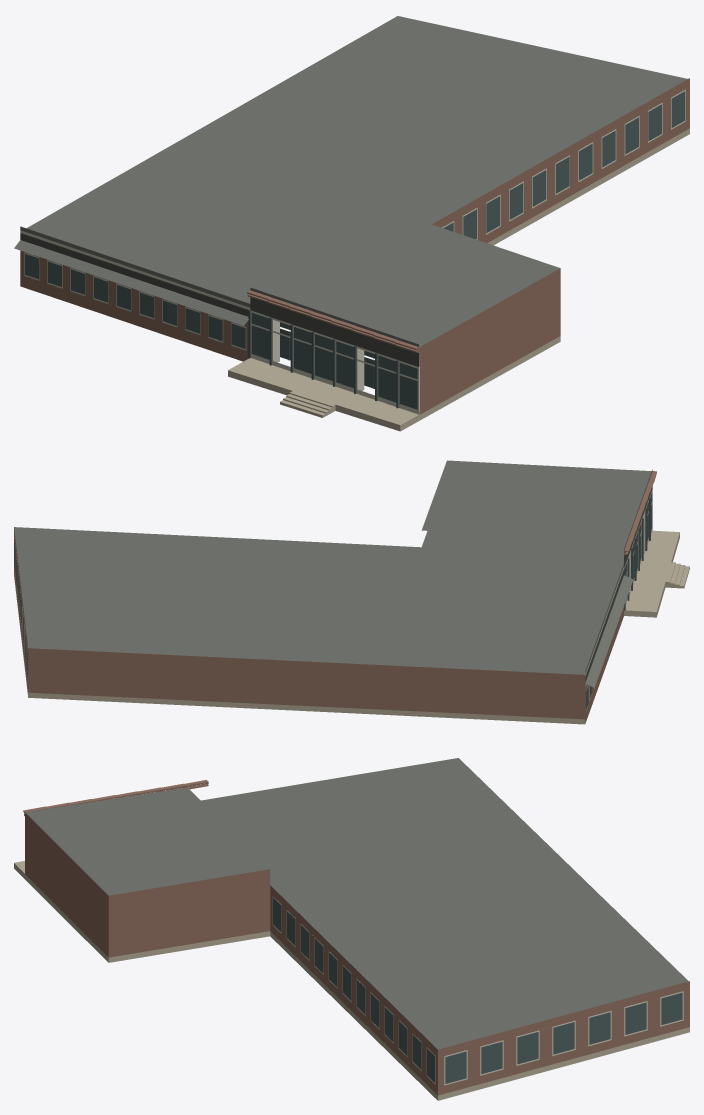
File: braselton-brothers-store-near.glb
The picture shows the model from 3 angles, top to bottom: view 1: azimuth 30°, elevation 25°; view 2: azimuth 150°, elevation 25°; view 3: azimuth 270°, elevation 25°; orthographic projection. The views are drawn at different scales.
Visible parts, largest first — view 1: braselton-brothers-store-0-roof, braselton-brothers-store-0-brick, braselton-brothers-store-0-glass, braselton-brothers-store-0-stone, braselton-brothers-store-0-trim, braselton-brothers-store-0-dark, braselton-brothers-store-0-metal; view 2: braselton-brothers-store-0-roof, braselton-brothers-store-0-brick, braselton-brothers-store-0-stone, braselton-brothers-store-0-glass, braselton-brothers-store-0-trim, braselton-brothers-store-0-metal, braselton-brothers-store-0-dark; view 3: braselton-brothers-store-0-roof, braselton-brothers-store-0-brick, braselton-brothers-store-0-glass, braselton-brothers-store-0-stone, braselton-brothers-store-0-trim.
Boxes of the visible parts, bbox=[...] form: braselton-brothers-store-0-roof: bbox=[14, 16, 687, 365]; braselton-brothers-store-0-brick: bbox=[20, 78, 689, 414]; braselton-brothers-store-0-glass: bbox=[25, 91, 685, 409]; braselton-brothers-store-0-stone: bbox=[228, 128, 689, 431]; braselton-brothers-store-0-trim: bbox=[20, 89, 685, 414]; braselton-brothers-store-0-dark: bbox=[20, 233, 418, 366]; braselton-brothers-store-0-metal: bbox=[248, 310, 398, 408]; braselton-brothers-store-0-roof: bbox=[14, 460, 652, 687]; braselton-brothers-store-0-brick: bbox=[14, 471, 656, 723]; braselton-brothers-store-0-stone: bbox=[14, 530, 689, 724]; braselton-brothers-store-0-glass: bbox=[14, 492, 652, 709]; braselton-brothers-store-0-trim: bbox=[14, 489, 652, 710]; braselton-brothers-store-0-metal: bbox=[624, 498, 650, 610]; braselton-brothers-store-0-dark: bbox=[585, 486, 652, 684]; braselton-brothers-store-0-roof: bbox=[25, 758, 688, 1049]; braselton-brothers-store-0-brick: bbox=[23, 780, 689, 1095]; braselton-brothers-store-0-glass: bbox=[273, 897, 682, 1083]; braselton-brothers-store-0-stone: bbox=[14, 861, 689, 1100]; braselton-brothers-store-0-trim: bbox=[272, 896, 683, 1085].
Bounding box in the file's own units: 72 × 7.9 × 69.29.
